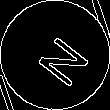N_NW: (23, 23, 87, 87)
